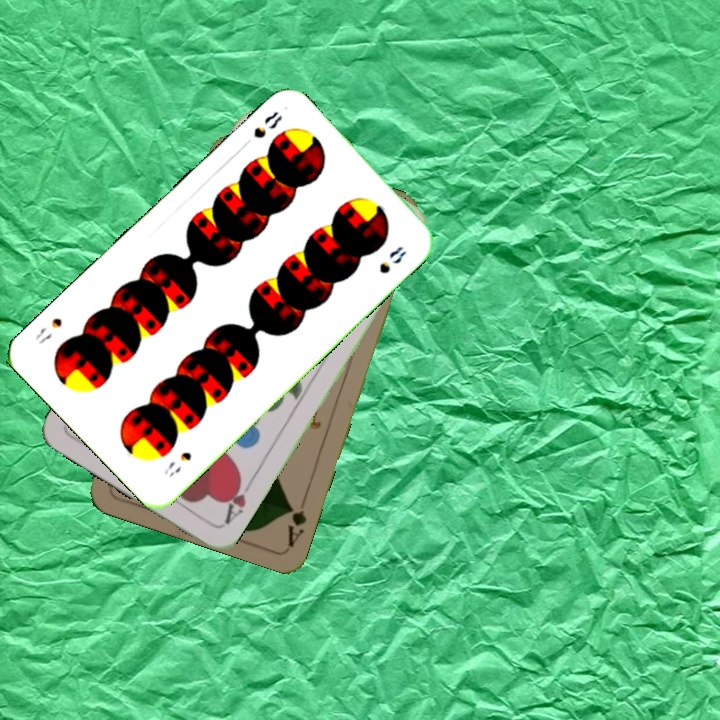GA: (283, 491, 310, 549)
HA: (220, 473, 256, 527)
S8: (249, 107, 285, 141), (160, 447, 194, 479)
